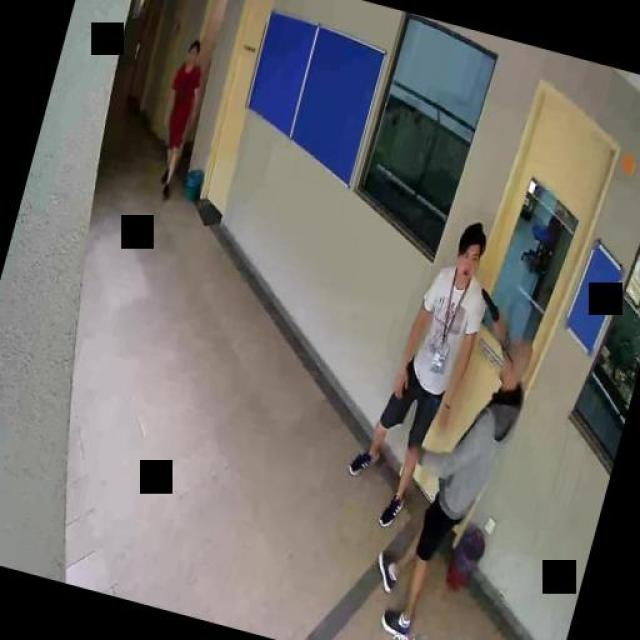gun: (472, 285, 508, 327)
